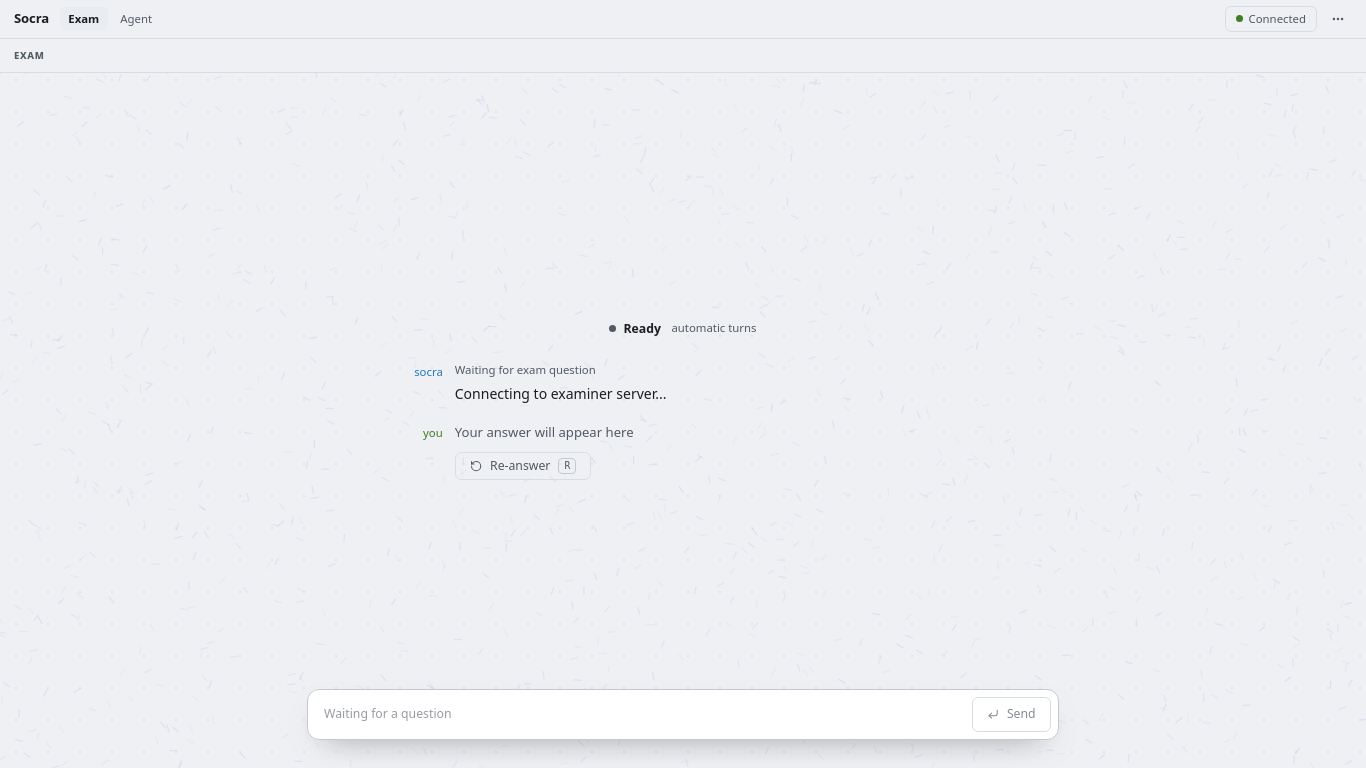
Test: App Integration › defaults to auto mode and persists mode changes in localStorage
The image size is (1366, 768).
Settings live behind the gear button
Step 1. Click the button with test id "settings-button" → click(1338, 19), box [1324,5,1352,33]
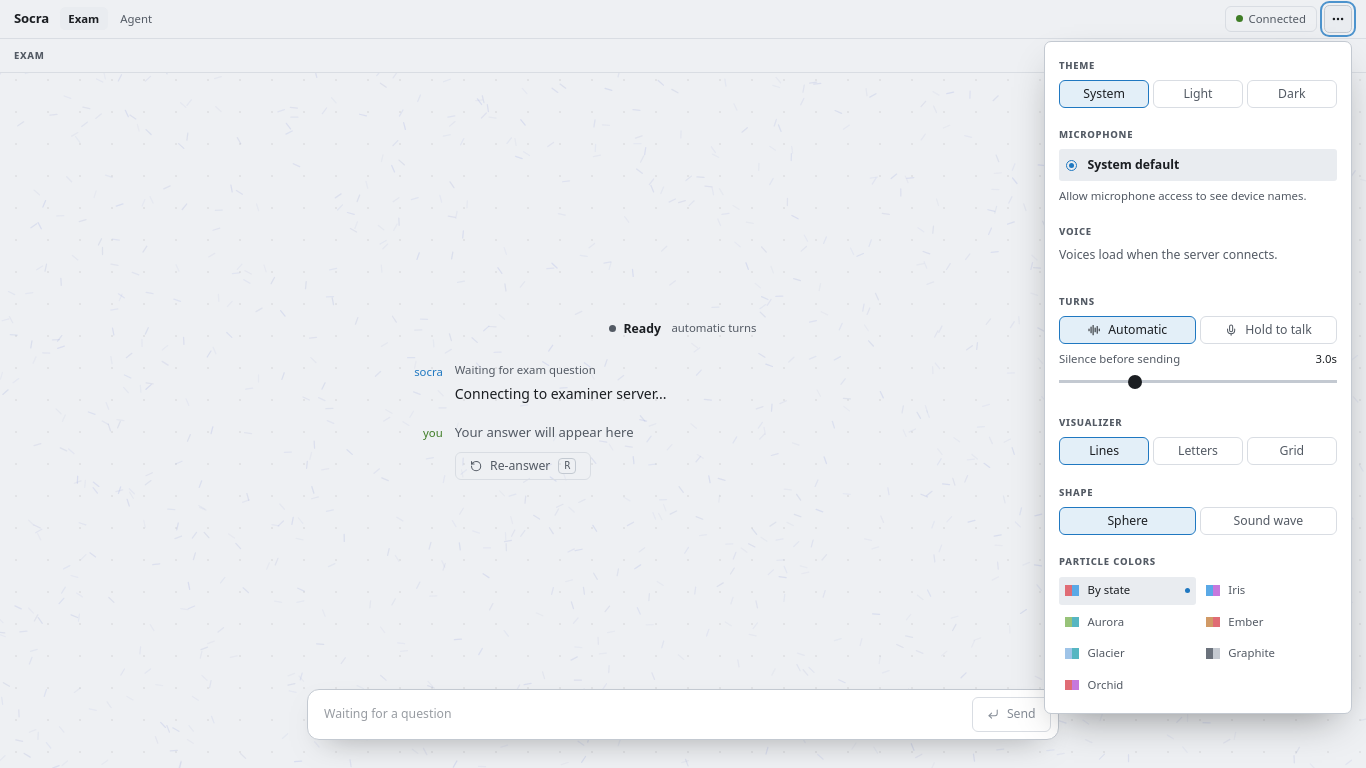
Switch to push-to-talk
Step 2. Click the radio button with test id "mode-ptt" → click(1268, 330), box [1200,316,1337,344]
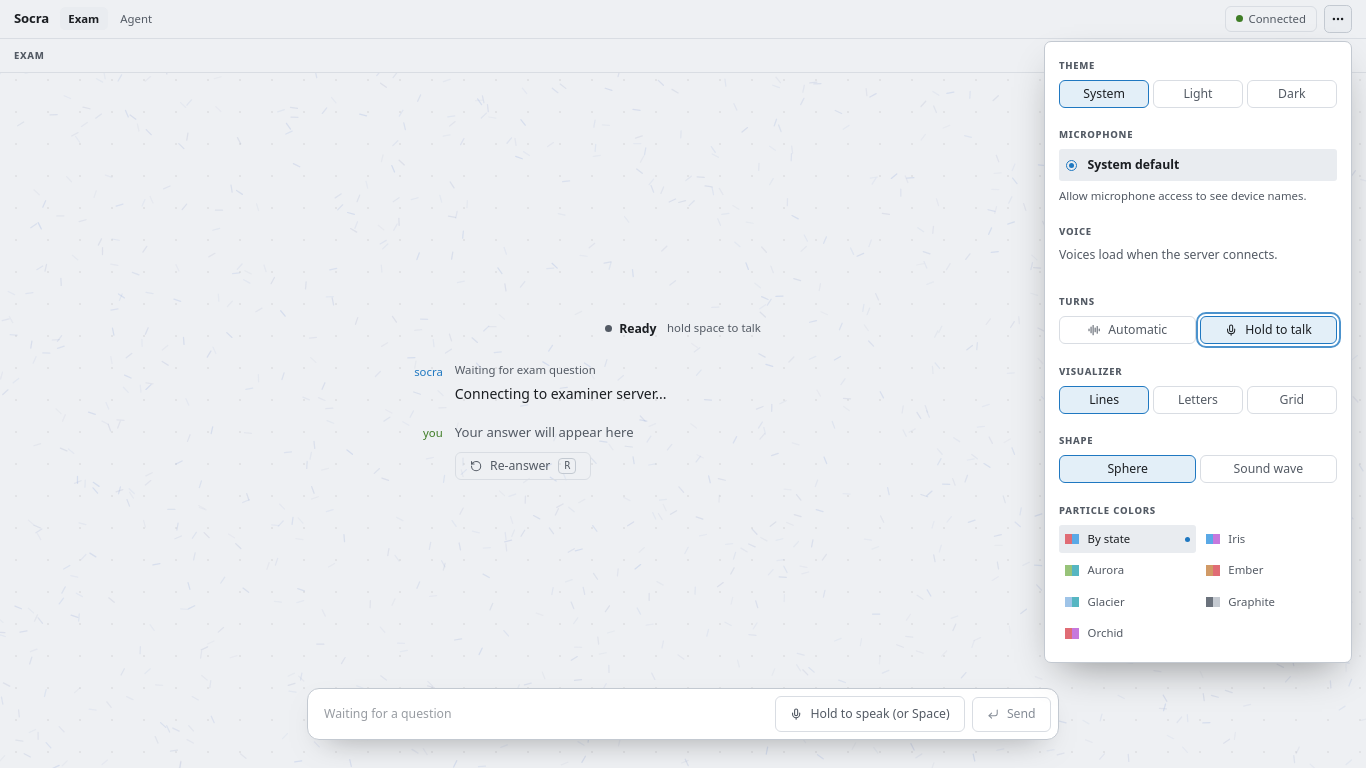
Expected: the button with test id "ptt-button" is shown, [775,696,965,732]
